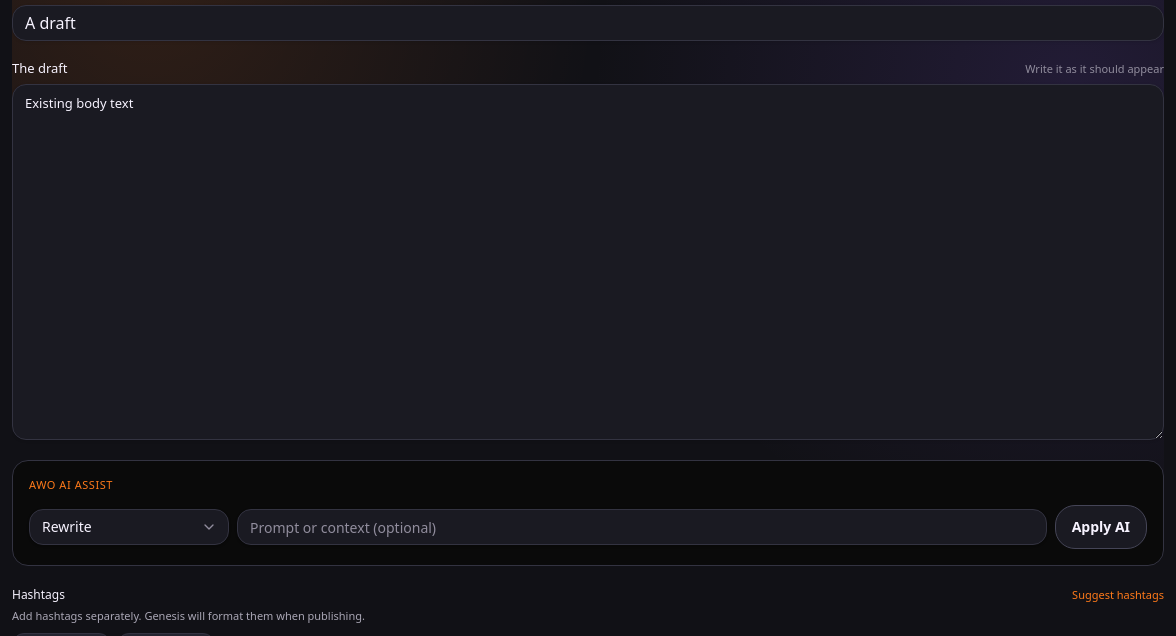
Test: H7/T14 (mandate) — suggestions are truncated to the remaining allowance even if the AI over-returns › AI returns 5 suggestions but only 3 are allowed → only 3 are offered
The width and height of the screenshot is (1176, 636).
Click the button "Suggest hashtags" at point(1118, 595), box [1072,587,1164,603]
(page scrolled)
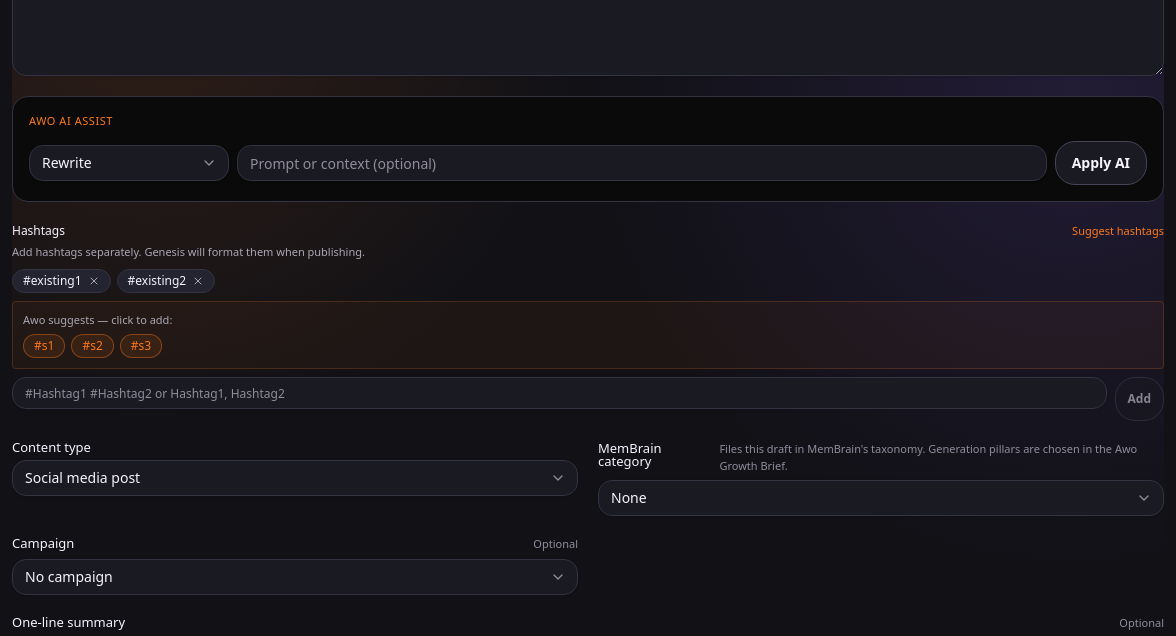
expect the button "#s1" is shown: met, box [23,334,65,358]
